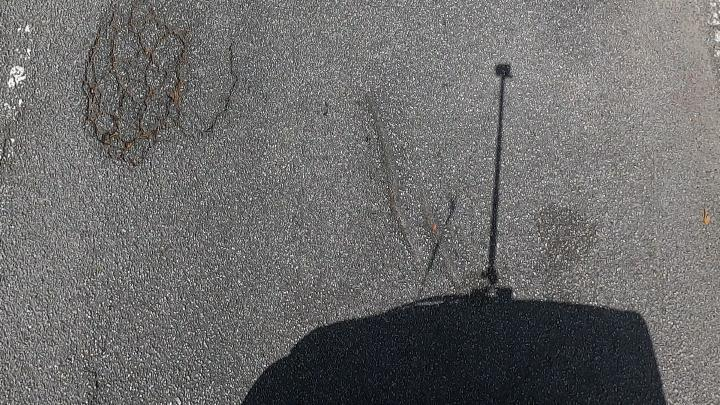Crack: (77, 0, 243, 169), (85, 0, 239, 165)
